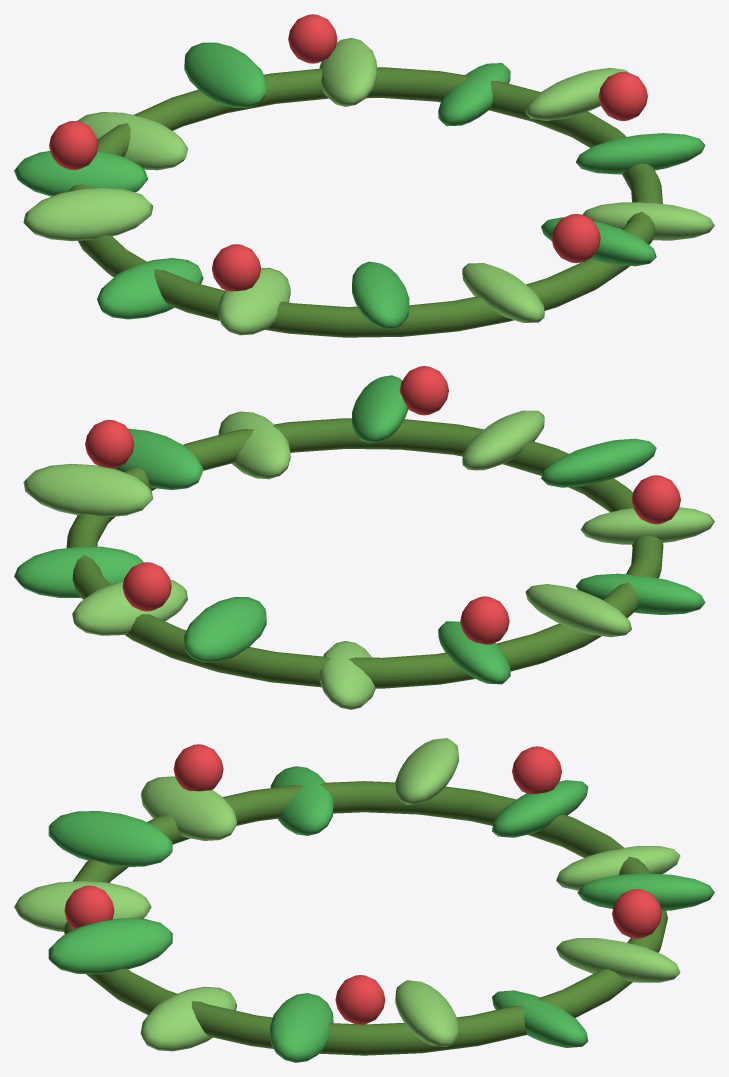
File: leaf-wreath.glb
The picture shows the model from 3 angles, top to bottom: view 1: azimuth 30°, elevation 25°; view 2: azimuth 150°, elevation 25°; view 3: azimuth 270°, elevation 25°; orthographic projection.
Visible parts, largest first — view 1: leaf-wreath; view 2: leaf-wreath; view 3: leaf-wreath.
Part boxes in pixels (x1=…): leaf-wreath: x1=14, y1=14, x2=714, y2=337; leaf-wreath: x1=14, y1=366, x2=714, y2=709; leaf-wreath: x1=14, y1=738, x2=714, y2=1062.
Size of the model in its own units: 1.13 by 0.1606 by 1.12.
